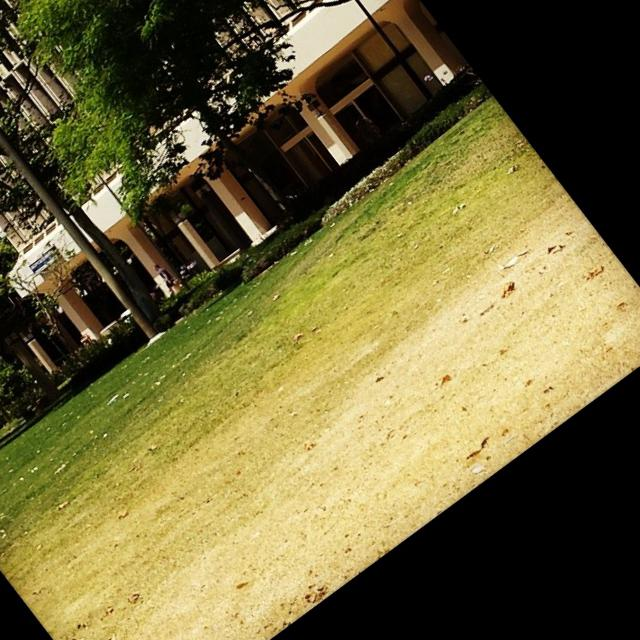patch: (219, 514, 331, 557), (375, 392, 438, 442)
